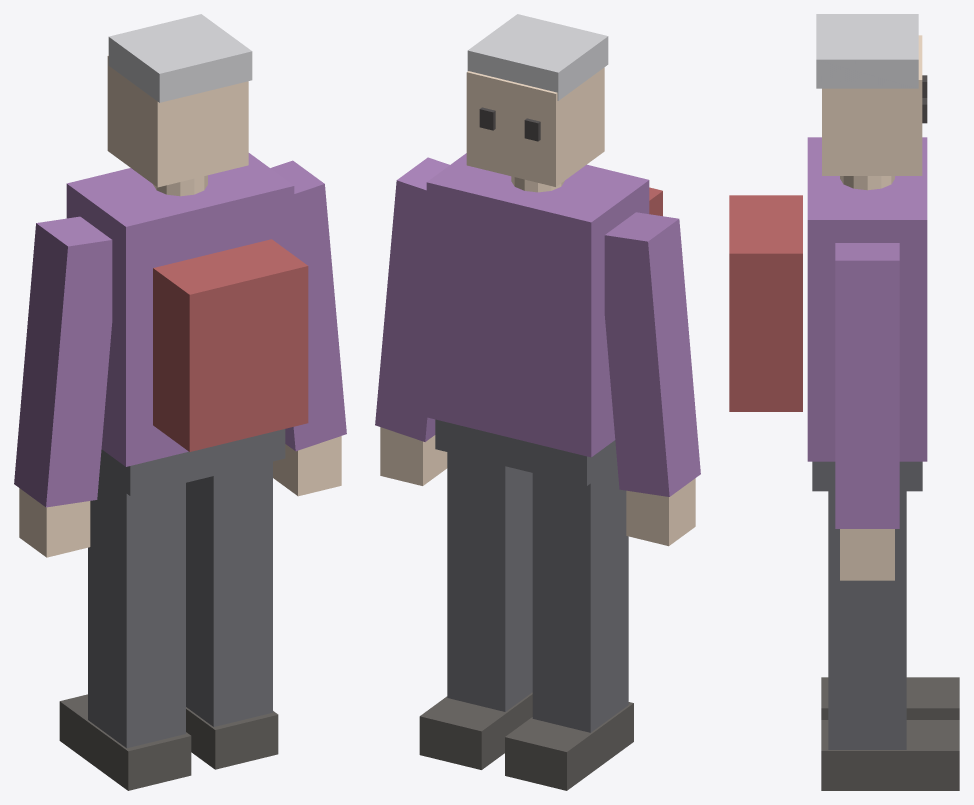
The model's file is civ_06.glb.
The picture shows the model from 3 angles, left to right: view 1: azimuth 30°, elevation 25°; view 2: azimuth 150°, elevation 25°; view 3: azimuth 270°, elevation 25°; orthographic projection. The views are drawn at different scales.
Parts seen in each view (by area): view 1: civ_06_pack, civ_06_torso, civ_06_leg_L, civ_06_arm_L, civ_06_leg_R, civ_06_head, civ_06_arm_R, civ_06_hair, civ_06_shoe_L, civ_06_pelvis, civ_06_shoe_R, civ_06_hand_L (+2 smaller); view 2: civ_06_torso, civ_06_leg_L, civ_06_arm_L, civ_06_leg_R, civ_06_head, civ_06_arm_R, civ_06_hair, civ_06_shoe_L, civ_06_shoe_R, civ_06_pelvis, civ_06_hand_L, civ_06_hand_R; view 3: civ_06_torso, civ_06_arm_R, civ_06_pack, civ_06_leg_R, civ_06_head, civ_06_hair, civ_06_shoe_R, civ_06_hand_R, civ_06_shoe_L, civ_06_pelvis, civ_06_neck.
Part boxes in pixels (left/top/right/bottom): civ_06_pack: left=153, top=239, right=308, bottom=451; civ_06_torso: left=66, top=153, right=294, bottom=466; civ_06_leg_L: left=88, top=474, right=185, bottom=748; civ_06_arm_L: left=14, top=216, right=112, bottom=507; civ_06_leg_R: left=186, top=461, right=272, bottom=726; civ_06_head: left=107, top=55, right=248, bottom=187; civ_06_arm_R: left=270, top=160, right=346, bottom=451; civ_06_hair: left=108, top=14, right=252, bottom=102; civ_06_shoe_L: left=59, top=694, right=191, bottom=790; civ_06_pelvis: left=99, top=429, right=285, bottom=496; civ_06_shoe_R: left=186, top=707, right=278, bottom=769; civ_06_hand_L: left=19, top=488, right=90, bottom=557; civ_06_torso: left=426, top=153, right=649, bottom=457; civ_06_leg_L: left=532, top=464, right=628, bottom=732; civ_06_arm_L: left=604, top=212, right=700, bottom=496; civ_06_leg_R: left=447, top=452, right=532, bottom=711; civ_06_head: left=466, top=67, right=604, bottom=186; civ_06_arm_R: left=375, top=157, right=449, bottom=441; civ_06_hair: left=467, top=14, right=608, bottom=100; civ_06_shoe_L: left=505, top=702, right=633, bottom=790; civ_06_shoe_R: left=419, top=692, right=532, bottom=769; civ_06_pelvis: left=435, top=419, right=617, bottom=485; civ_06_hand_L: left=626, top=478, right=695, bottom=546; civ_06_hand_R: left=380, top=427, right=447, bottom=485; civ_06_torso: left=807, top=137, right=927, bottom=461; civ_06_arm_R: left=835, top=243, right=899, bottom=528; civ_06_pack: left=729, top=195, right=802, bottom=411; civ_06_leg_R: left=828, top=491, right=906, bottom=749; civ_06_head: left=822, top=35, right=922, bottom=175; civ_06_hair: left=816, top=14, right=918, bottom=88; civ_06_shoe_R: left=821, top=720, right=959, bottom=790; civ_06_hand_R: left=840, top=529, right=894, bottom=580; civ_06_shoe_L: left=821, top=677, right=959, bottom=719; civ_06_pelvis: left=812, top=461, right=922, bottom=491; civ_06_neck: left=840, top=176, right=894, bottom=190.
Bounding box in the file's own units: 0.7151 × 1.62 × 0.47.
